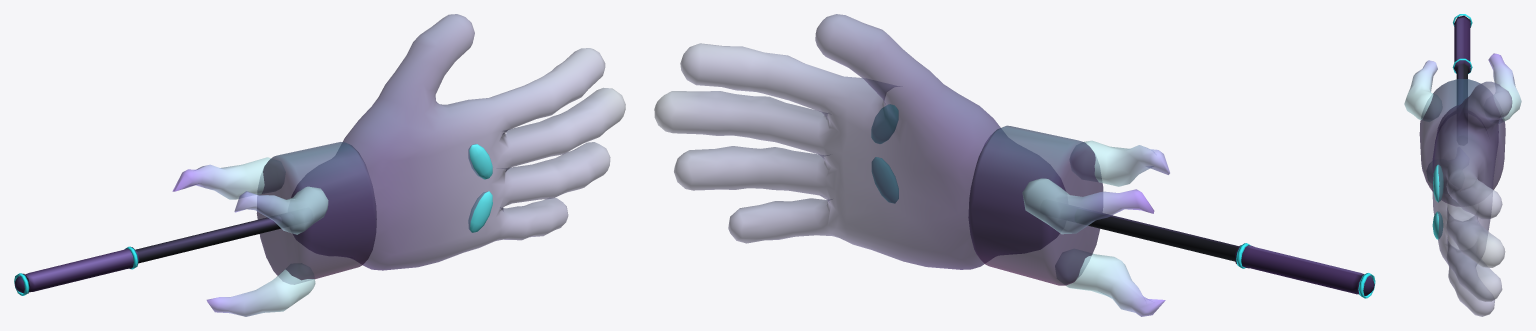
The model's file is glove_ghost.glb.
3 views of the same model, side by side, from view 1: azimuth 30°, elevation 25°; view 2: azimuth 150°, elevation 25°; view 3: azimuth 270°, elevation 25° (orthographic). The views are drawn at different scales.
Parts seen in each view (by area): view 1: Glove, Glow, Stick; view 2: Glove, Glow, Stick; view 3: Glove, Glow, Stick.
Part boxes in pixels (x1,y1,x2,y2): Glove: (256,14,625,284); Glow: (14,144,492,316); Stick: (15,215,282,293); Glove: (654,14,1103,285); Glow: (871,104,1375,316); Stick: (1074,208,1374,295); Glove: (1419,79,1512,316); Glow: (1404,14,1521,239); Stick: (1454,15,1470,104).
Bounding box in the file's own units: 1.17 × 0.4102 × 0.2277.
